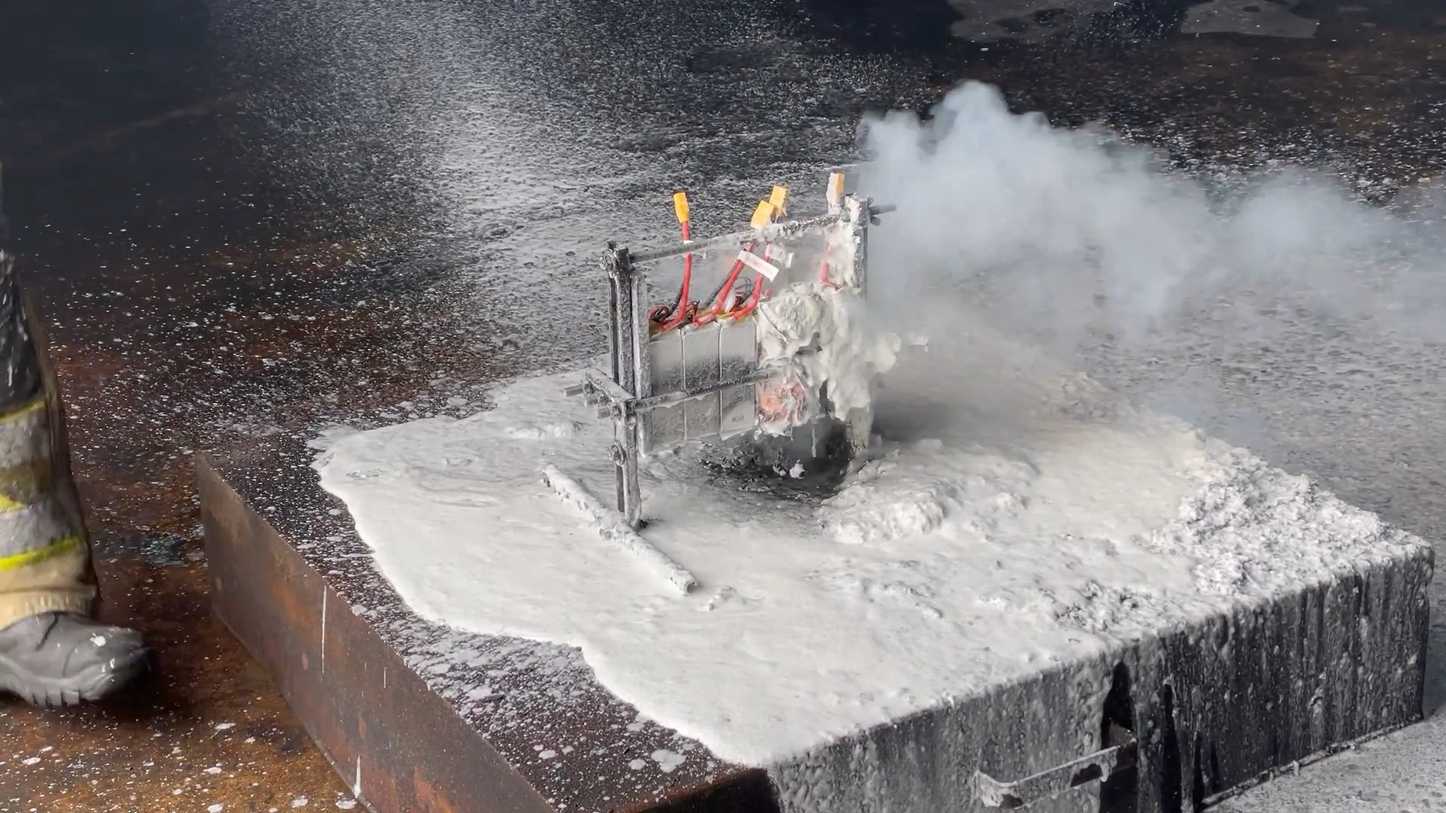smoke: (833, 77, 1446, 461)
